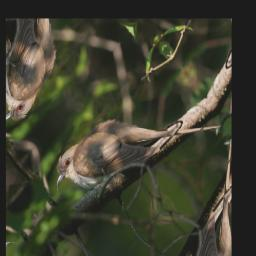Cuckoo: (45, 44, 222, 256)
